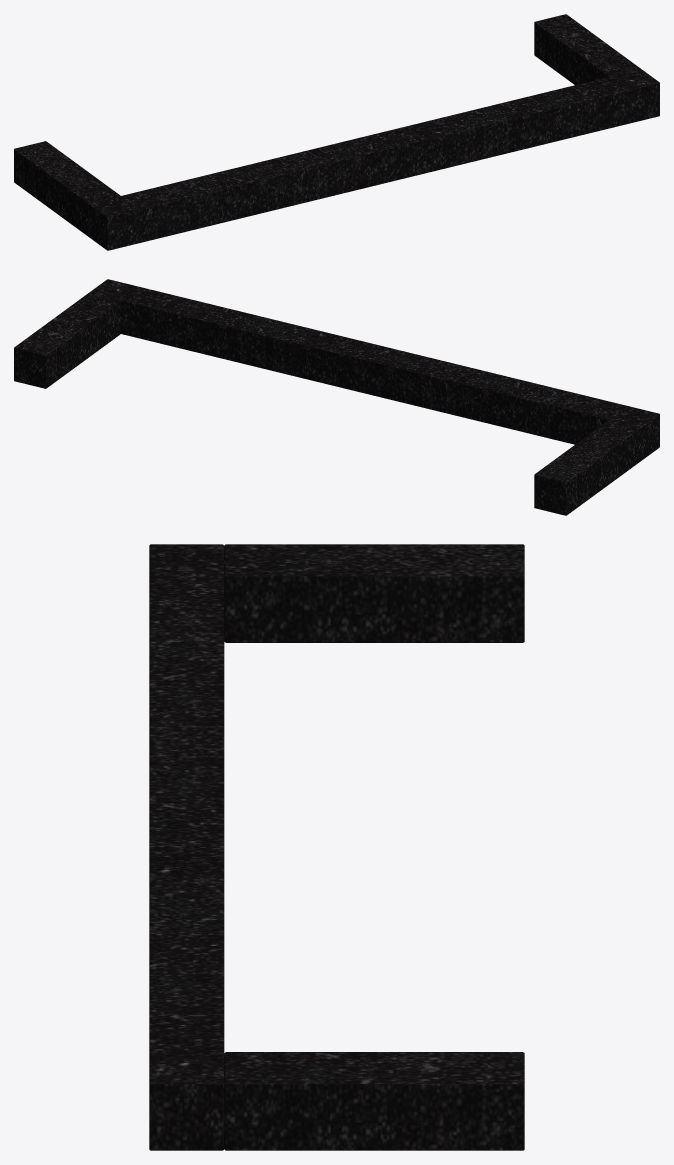
Rendered from Frame 170 x  40 x 10.gltf.
3 views of the same model, one above another, from view 1: azimuth 30°, elevation 25°; view 2: azimuth 150°, elevation 25°; view 3: azimuth 270°, elevation 25° (orthographic). The views are drawn at different scales.
Parts seen in each view (by area): view 1: Cube.056; view 2: Cube.056; view 3: Cube.056.
Boxes of the visible parts, box(x1,y1,x2,y2) form: Cube.056: box(14, 14, 659, 250); Cube.056: box(14, 279, 659, 515); Cube.056: box(149, 544, 524, 1150).
Bounding box in the file's own units: 1.7 × 0.1 × 0.5.
Materials: 1 (1 with a texture image).
